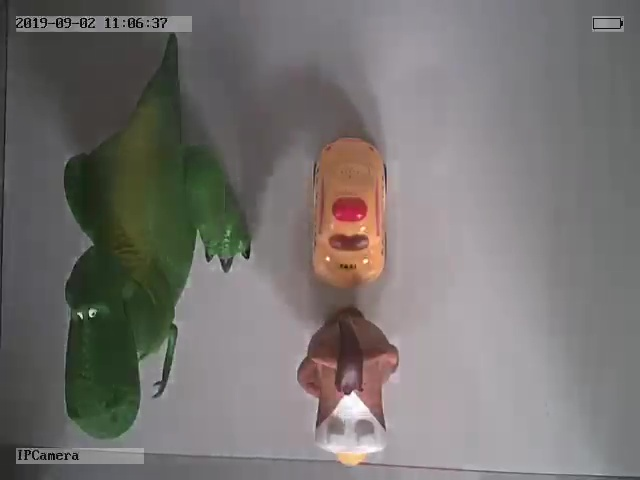car: (311, 132, 393, 288)
horse: (299, 307, 400, 465)
rex: (62, 65, 251, 439)
